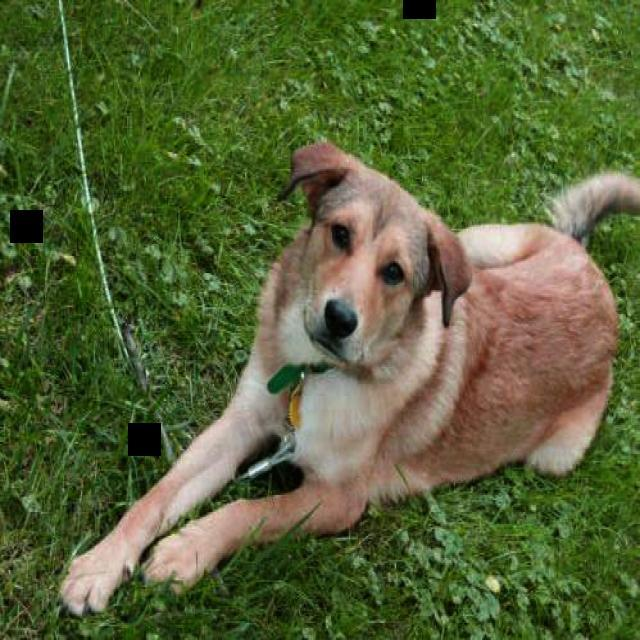adult_dog: (57, 140, 640, 617)
